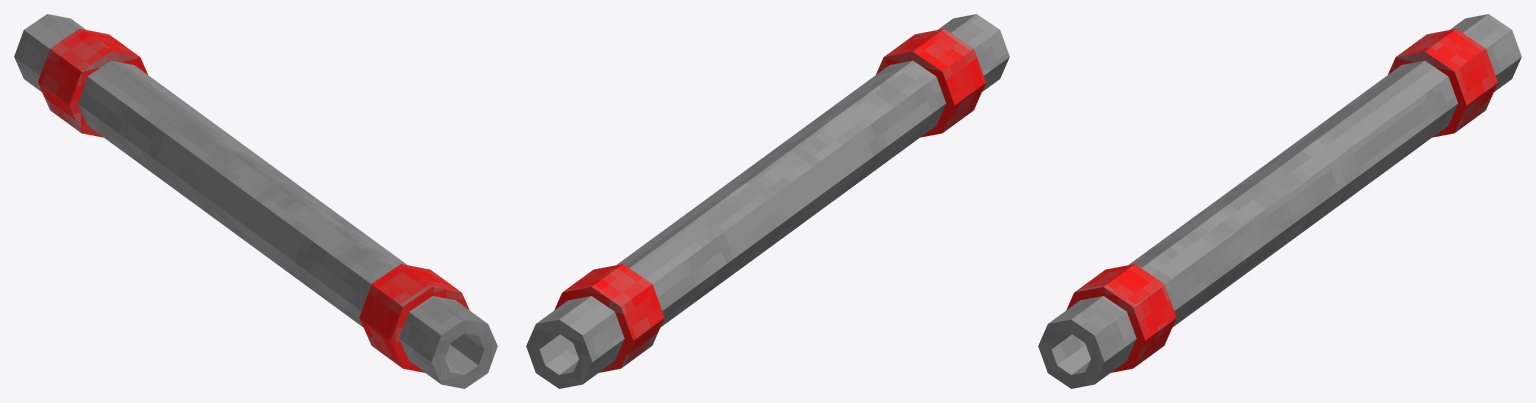
File: Pipe.fbx
3 views of the same model, side by side, from view 1: azimuth 30°, elevation 25°; view 2: azimuth 150°, elevation 25°; view 3: azimuth 330°, elevation 25° (orthographic).
Visible parts, largest first — view 1: Cylinder; view 2: Cylinder; view 3: Cylinder.
Part boxes in pixels (box(x1,y1,x2,y2)): Cylinder: box(14, 14, 497, 388); Cylinder: box(526, 14, 1009, 388); Cylinder: box(1038, 14, 1521, 388).
Bounding box in the file's own units: 60.71 × 60.71 × 526.
